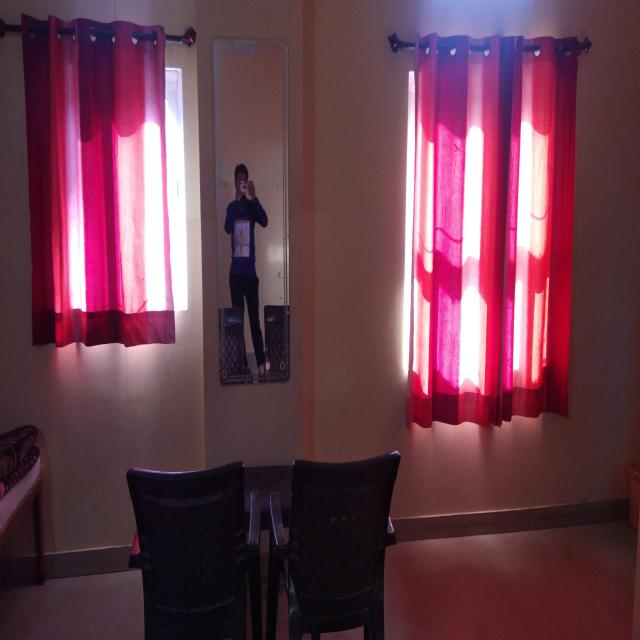Chair: (127, 461, 254, 638), (284, 453, 401, 637)
